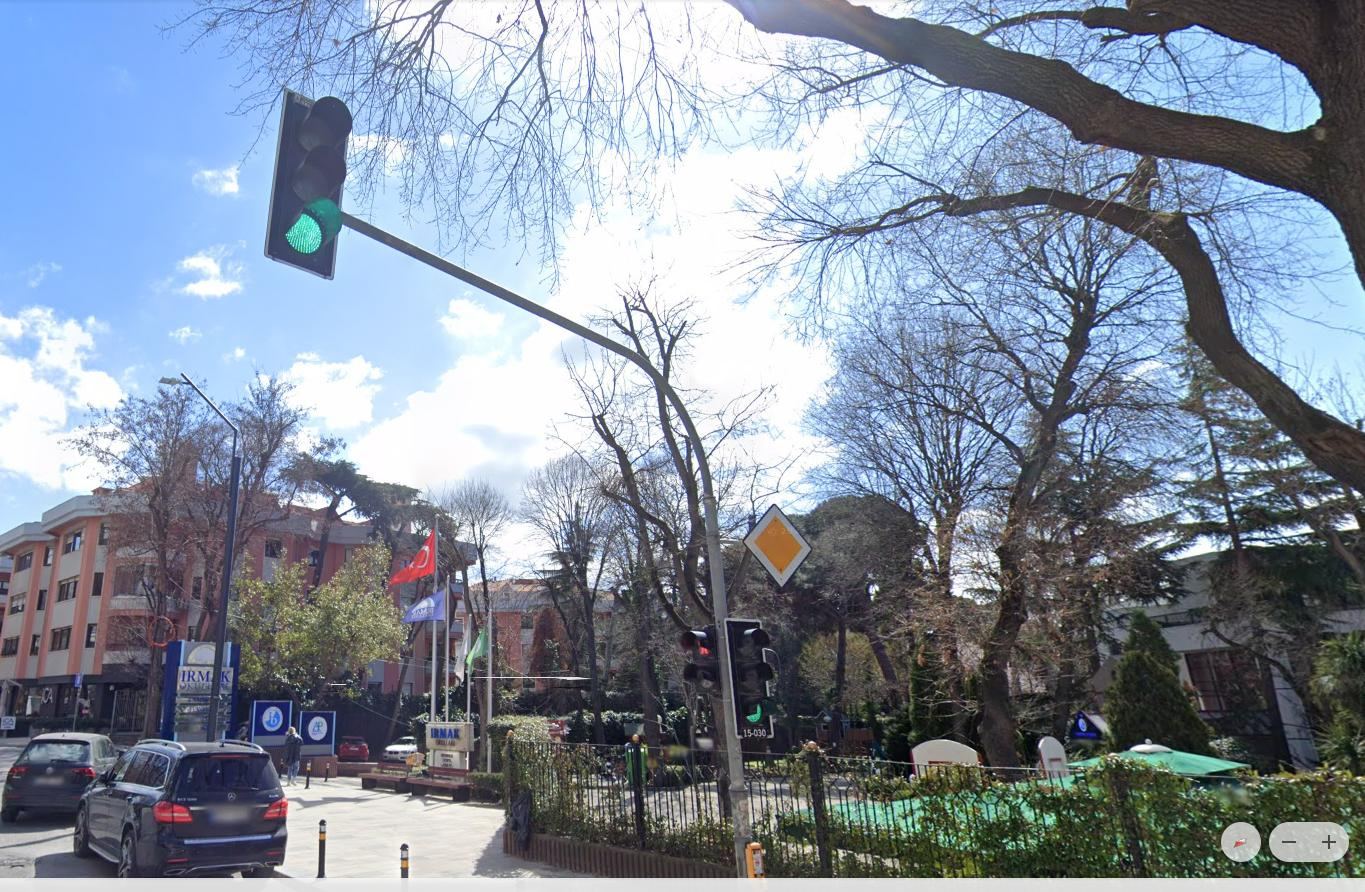greenlight: (264, 90, 347, 265), (723, 620, 775, 734)
